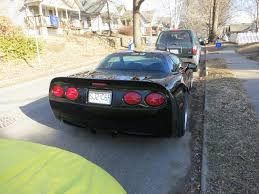Dent: (169, 75, 191, 104), (113, 76, 152, 85)
